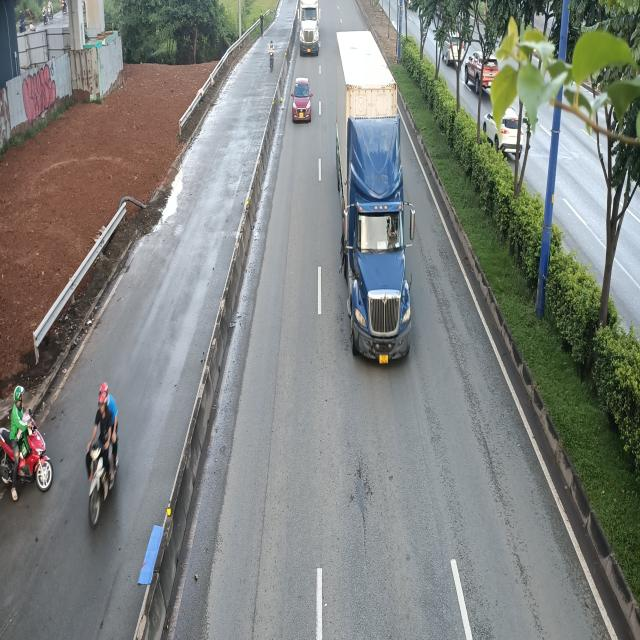car: (293, 78, 314, 122)
container: (334, 27, 420, 362), (298, 0, 322, 55)
